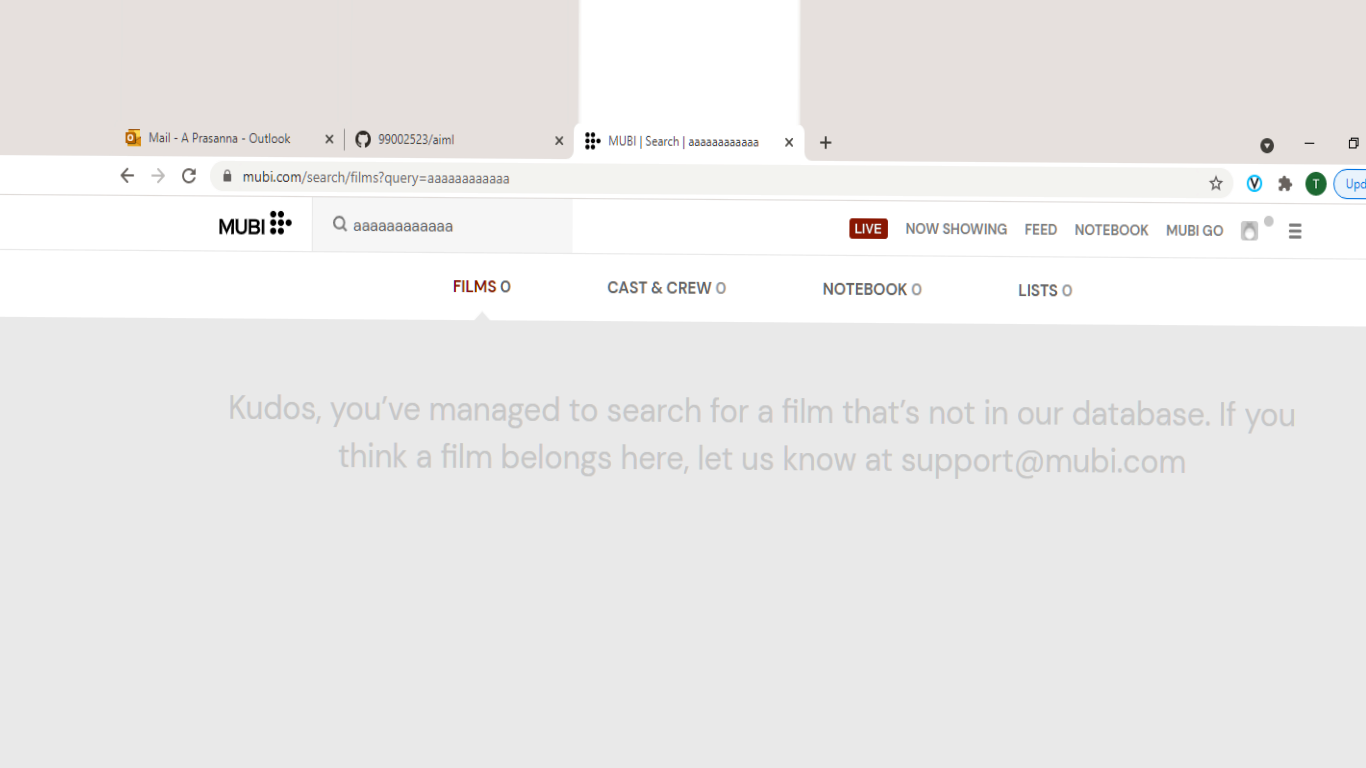noresultsfound: (227, 357, 1338, 504)
profileicon: (1234, 216, 1278, 251)
searchicon: (320, 205, 352, 240)
searchtextbox: (308, 196, 579, 257)
